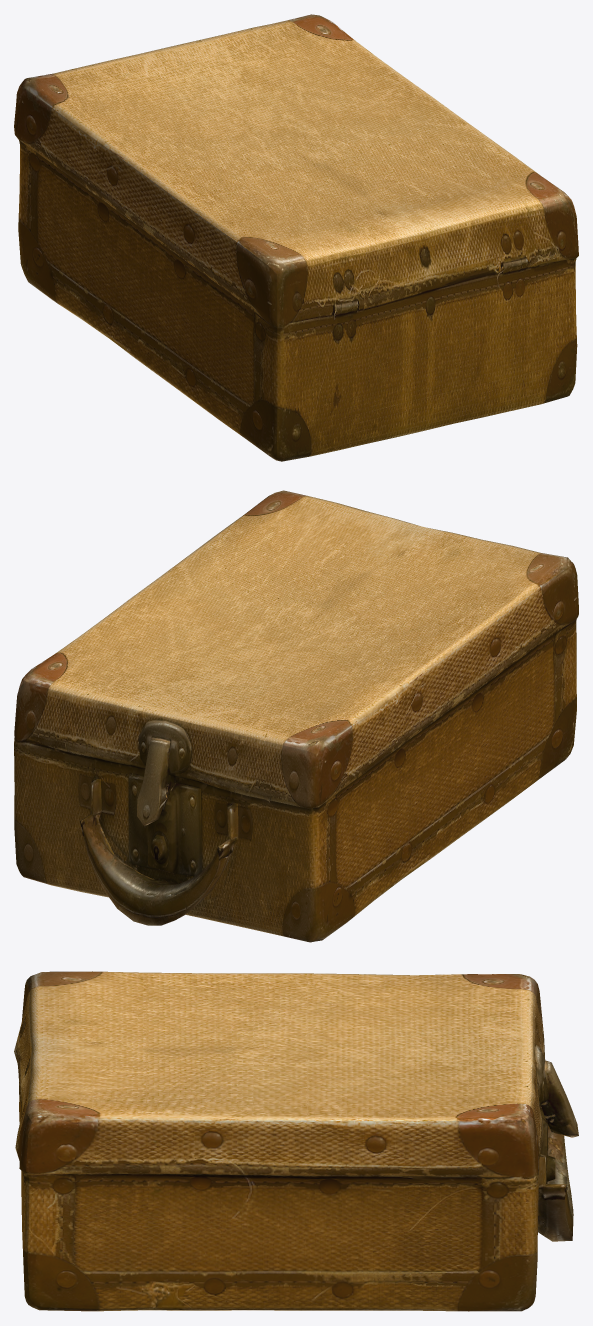
The model's file is suitcase.dae.
The picture shows the model from 3 angles, top to bottom: view 1: azimuth 30°, elevation 25°; view 2: azimuth 150°, elevation 25°; view 3: azimuth 270°, elevation 25°; orthographic projection. The views are drawn at different scales.
Parts seen in each view (by area): view 1: node0; view 2: node0; view 3: node0.
Part boxes in pixels (<box>): node0: <box>14,14,578,461</box>; node0: <box>14,490,578,942</box>; node0: <box>14,971,578,1311</box>.
Bounding box in the file's own units: 0.42 × 0.68 × 0.27.
Materials: 1 (1 with a texture image).
